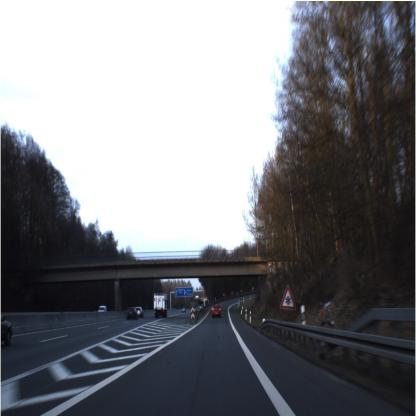SNOW: (279, 284, 297, 310)
